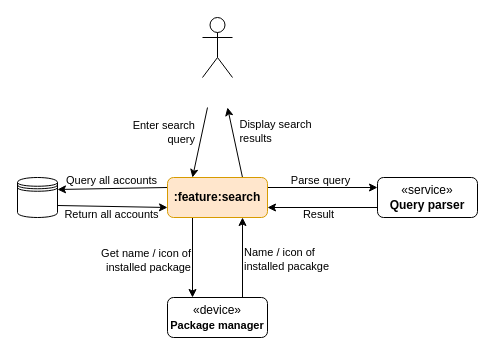
The diagram is 495 pixels wide and 355 high, and some of its shapes have lost their labels. The centre of each missing label's shape, as x and y in pixels:
DB: point 37,197
User: point 217,47
